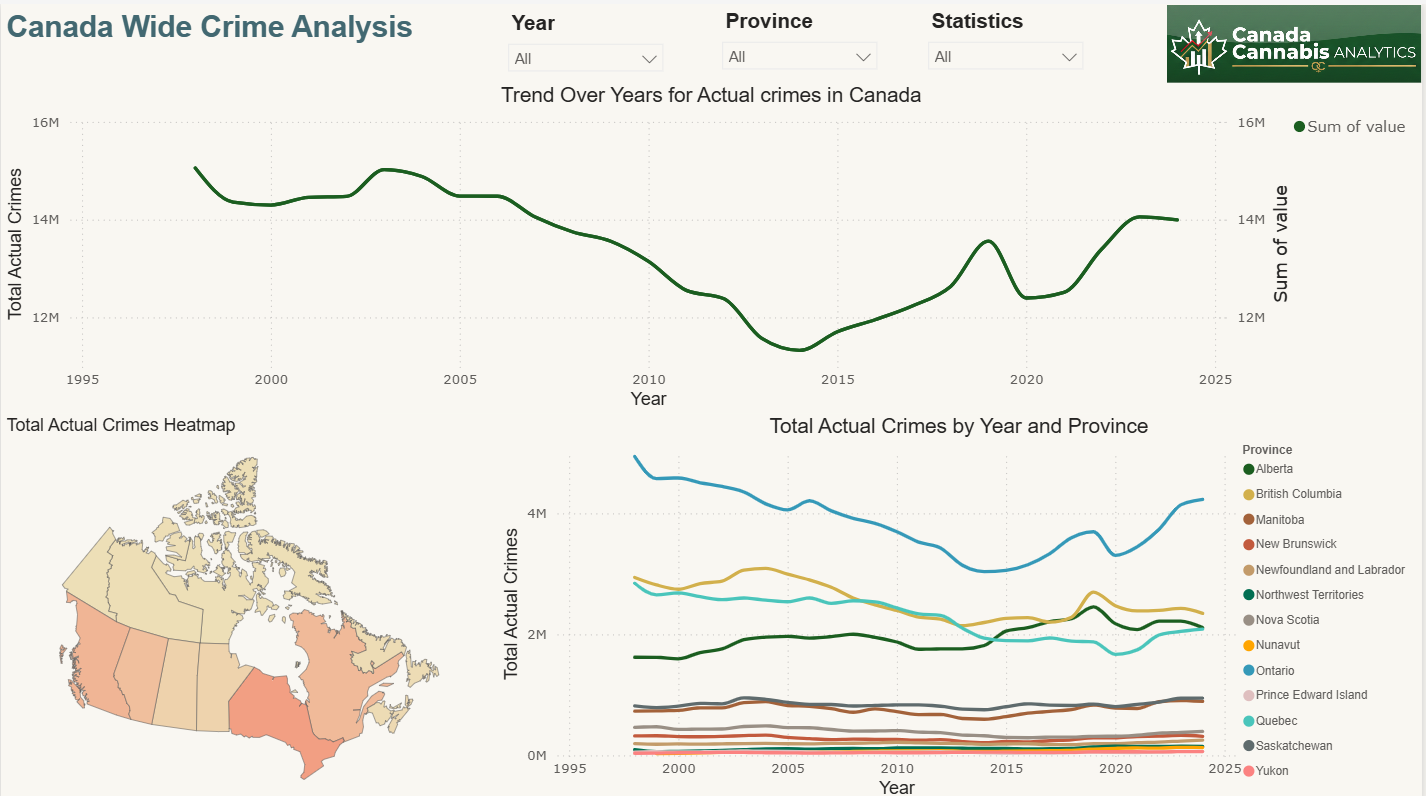

What the dashboard file says about the page in this screenshot:
{"tool":"powerbi","page":{"name":"Canada Wide Crime Analysis","canvas":[1280,720],"ordinal":4},"visuals":[{"type":"lineChart","title":"Trend Over Years for Actual crimes in Canada ","fields":{"Category":["Canada and Province Crime Data.year"],"Y":["select","Sum(Canada and Province Crime Data.value)"],"Y2":["Sum(Canada and Province Crime Data.value)"]},"box":[0,71.1,1280,298.3],"z":0},{"type":"slicer","fields":{"Values":["Canada and Province Crime Data.year"]},"box":[447.4,2,160,71.1],"z":1000},{"type":"slicer","fields":{"Values":["Canada and Province Crime Data.Statistics"]},"box":[825.7,0,160,71.1],"z":2000},{"type":"lineChart","fields":{"Category":["Canada and Province Crime Data.year"],"Y":["select","Sum(Canada and Province Crime Data.value)"],"Series":["Canada and Province Crime Data.Locations"]},"box":[447.4,369.4,832.6,350.6],"z":3000},{"type":"shapeMap","title":"Total Actual Crimes Heatmap","fields":{"Category":["Canada and Province Crime Data.Locations"]},"box":[0,370.4,447.4,349.6],"z":4000},{"type":"slicer","fields":{"Values":["Canada and Province Crime Data.Locations"]},"box":[640,0,160,71.1],"z":5000},{"type":"textbox","box":[0,1,412.6,72],"z":6000},{"type":"image","box":[1050.7,1,229.3,70],"z":6001}]}

Visuals, with their boxes in screenshot pixels (x1, y1, x2, y2), scaled from the page's 1280x720 canvas onto the 1426x796 screenshot:
"Trend Over Years for Actual crimes in Canada " lineChart: BBox(0, 79, 1425, 408)
slicer - Canada and Province Crime Data.year: BBox(498, 2, 677, 81)
slicer - Canada and Province Crime Data.Statistics: BBox(920, 0, 1098, 79)
lineChart - Canada and Province Crime Data.year x select: BBox(498, 408, 1425, 795)
"Total Actual Crimes Heatmap" shapeMap: BBox(0, 409, 498, 795)
slicer - Canada and Province Crime Data.Locations: BBox(713, 0, 891, 79)
textbox: BBox(0, 1, 460, 81)
image: BBox(1171, 1, 1425, 78)
